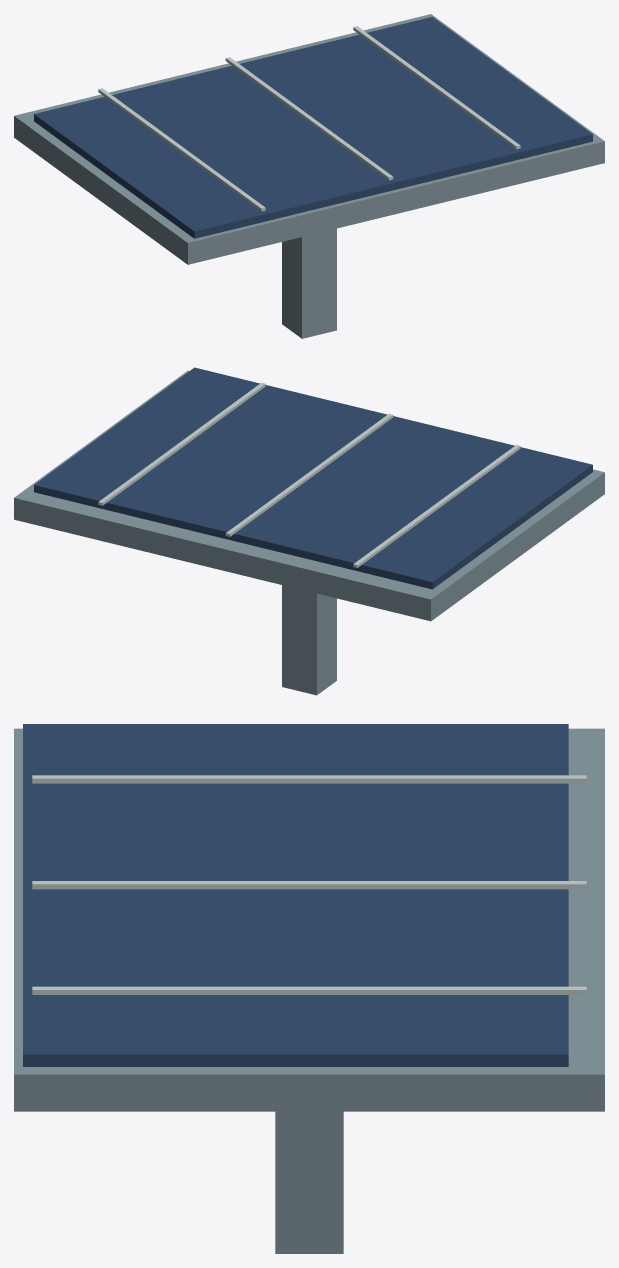
The model's file is Hab_Solar_Array.glb.
The picture shows the model from 3 angles, top to bottom: view 1: azimuth 30°, elevation 25°; view 2: azimuth 150°, elevation 25°; view 3: azimuth 270°, elevation 25°; orthographic projection. The views are drawn at different scales.
Visible parts, largest first — view 1: Hab_Solar_Array; view 2: Hab_Solar_Array; view 3: Hab_Solar_Array.
Boxes of the visible parts, box(x1,y1,x2,y2) form: Hab_Solar_Array: box(14, 14, 604, 338); Hab_Solar_Array: box(14, 367, 604, 695); Hab_Solar_Array: box(14, 724, 604, 1253).
Bounding box in the file's own units: 1.8 × 0.866 × 1.3.
